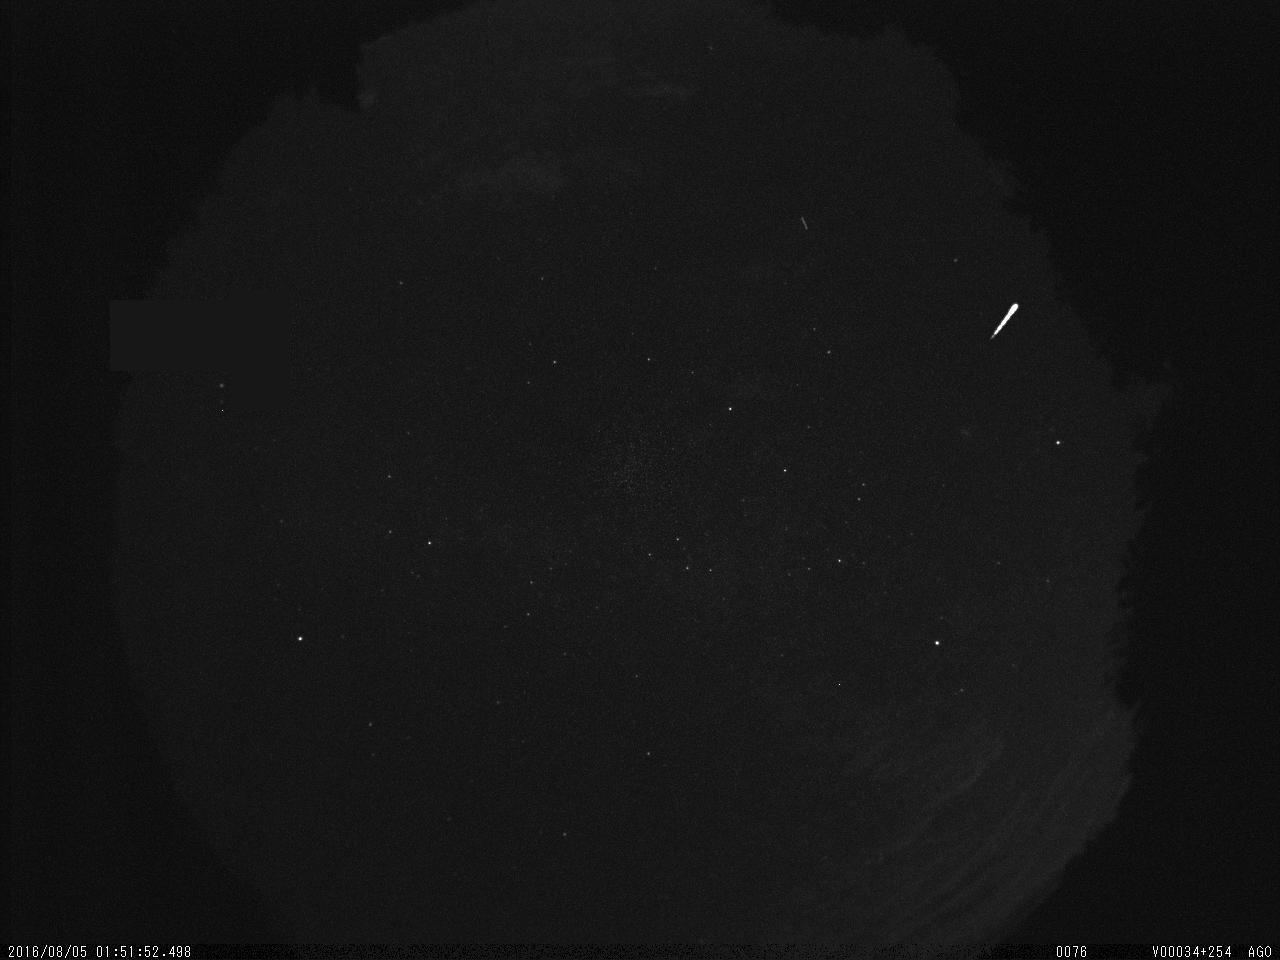meteor: (970, 278, 1034, 356)
